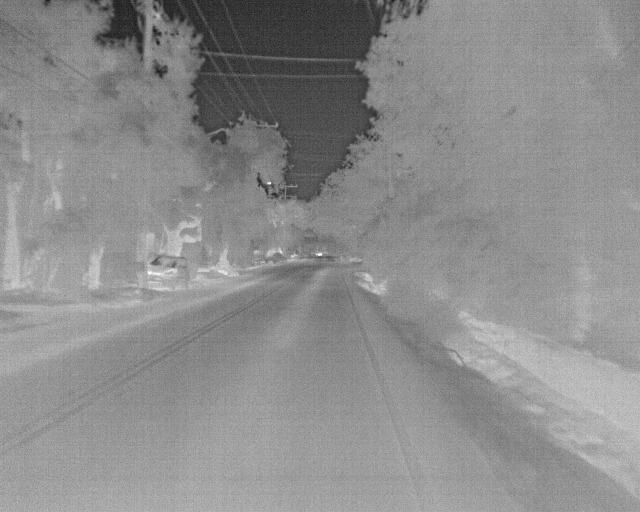car: (142, 254, 190, 292)
